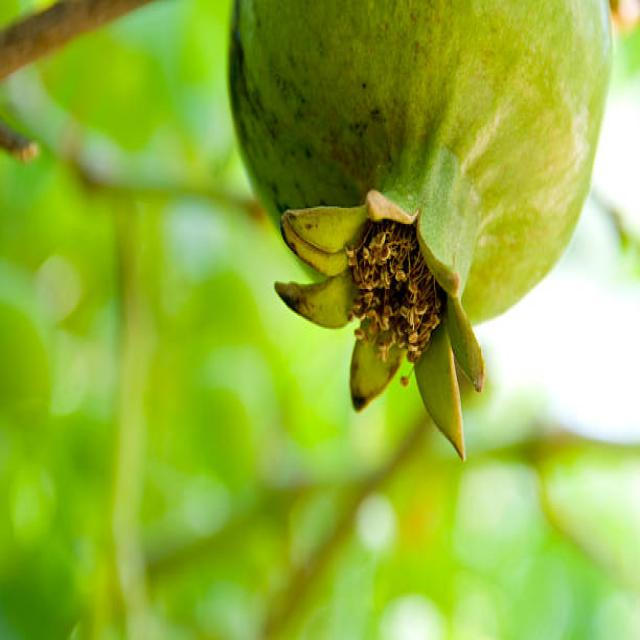Unripe: (226, 0, 612, 463)
